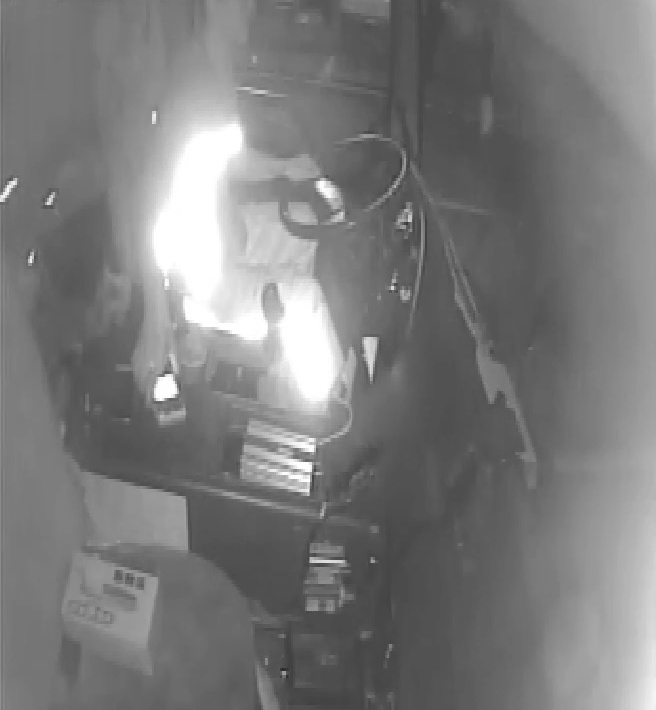cellphone: (141, 362, 188, 421)
